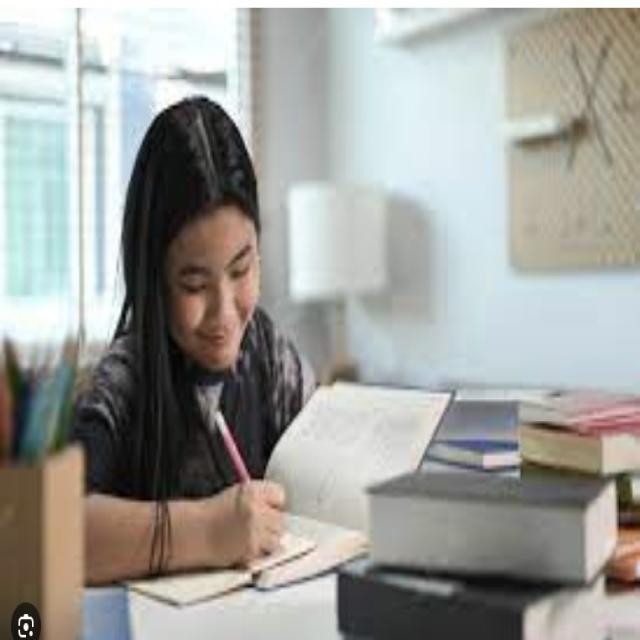studying-person: (78, 99, 468, 590)
